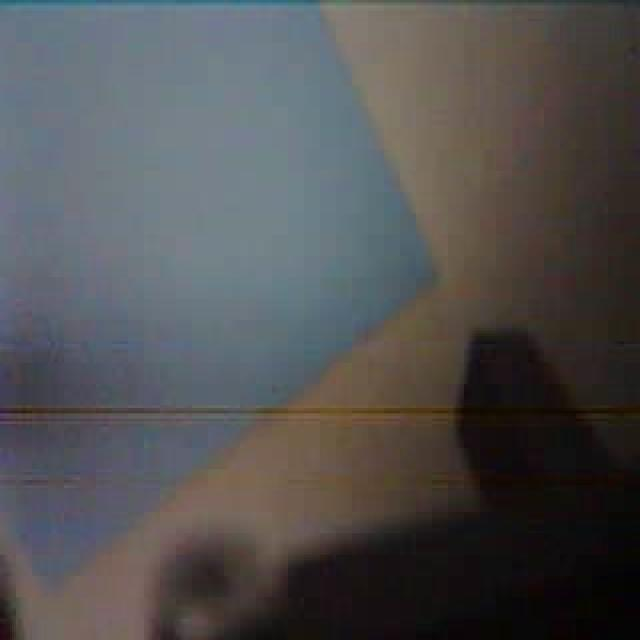blue_box: (22, 4, 409, 597)
